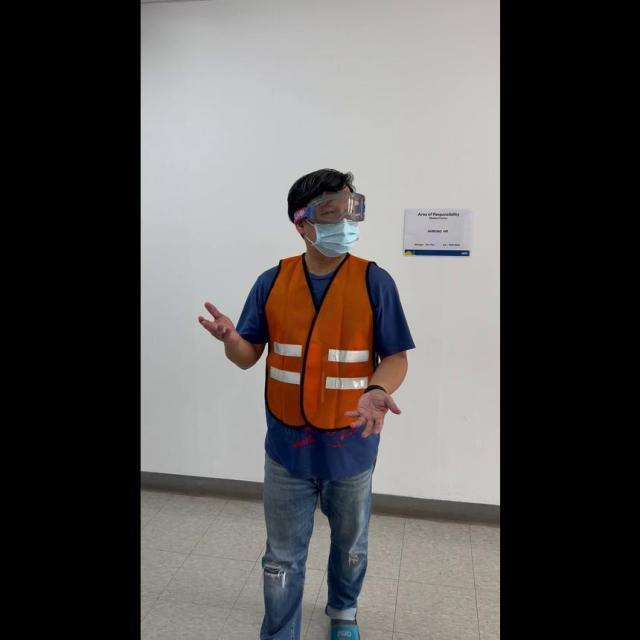bare_hand: (343, 380, 400, 438), (196, 296, 237, 344)
